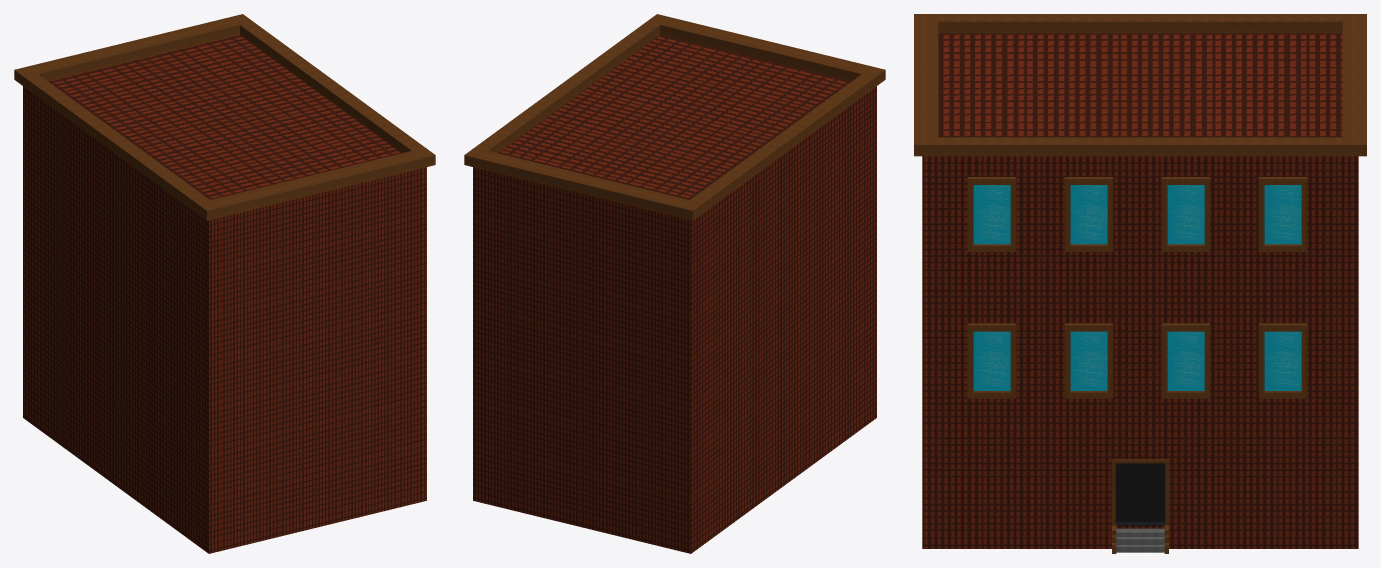
Rendered from Edificio_1_1.fbx.
3 views of the same model, side by side, from view 1: azimuth 30°, elevation 25°; view 2: azimuth 150°, elevation 25°; view 3: azimuth 270°, elevation 25° (orthographic). The views are drawn at different scales.
Parts seen in each view (by area): view 1: edificio_1; view 2: edificio_1; view 3: edificio_1.
Boxes of the visible parts, left/top/right/bottom form: edificio_1: left=14, top=14, right=435, bottom=553; edificio_1: left=464, top=14, right=885, bottom=553; edificio_1: left=914, top=14, right=1366, bottom=553.
Size of the model in its own units: 954 by 1319 by 1330.
